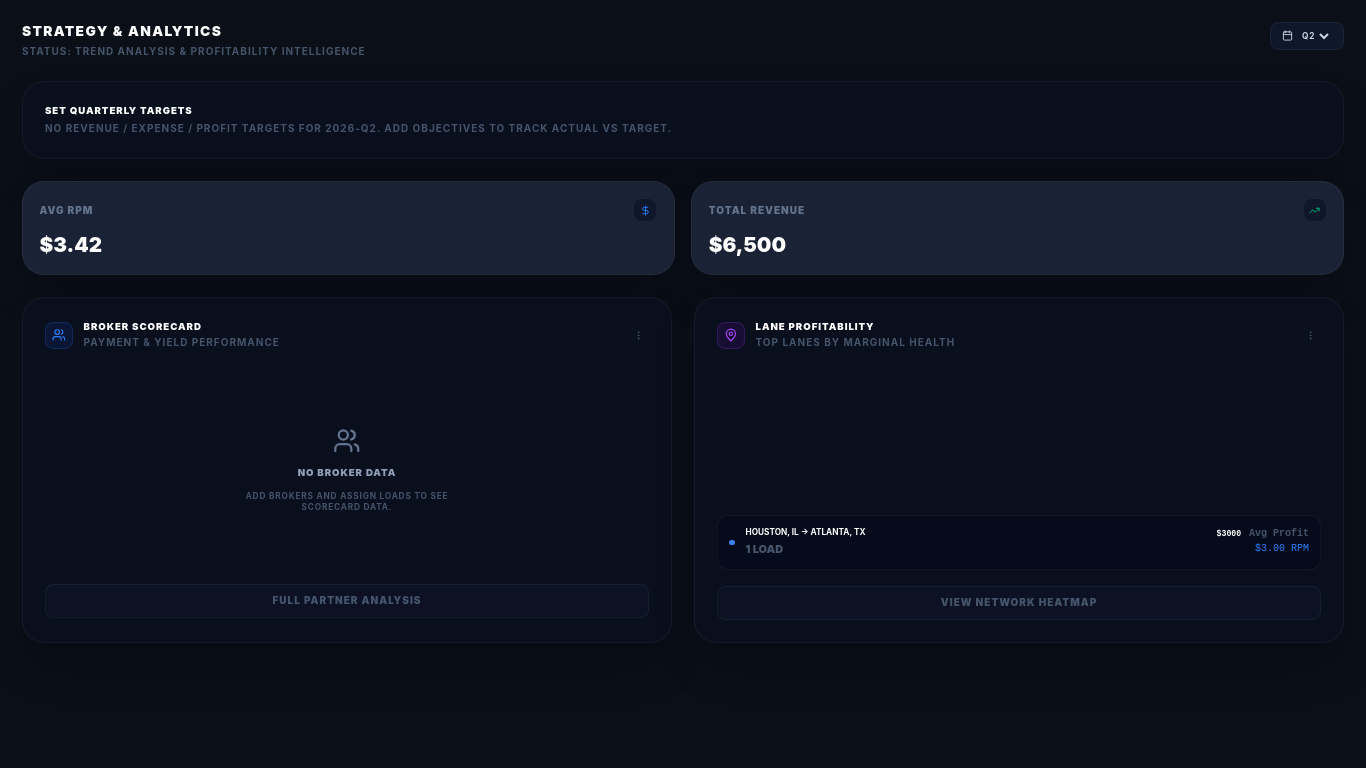
Test: AnalyticsDashboard quarterly enhancement › Tests R-P10-04 — changing quarter filters lane data by pickupDate
Default quarter is Q1 (for this test's determinism, we select it explicitly)
Select "Q1" in the dropdown with test id "quarter-selector". click: (1315, 36)
box: [1298,30,1332,42]
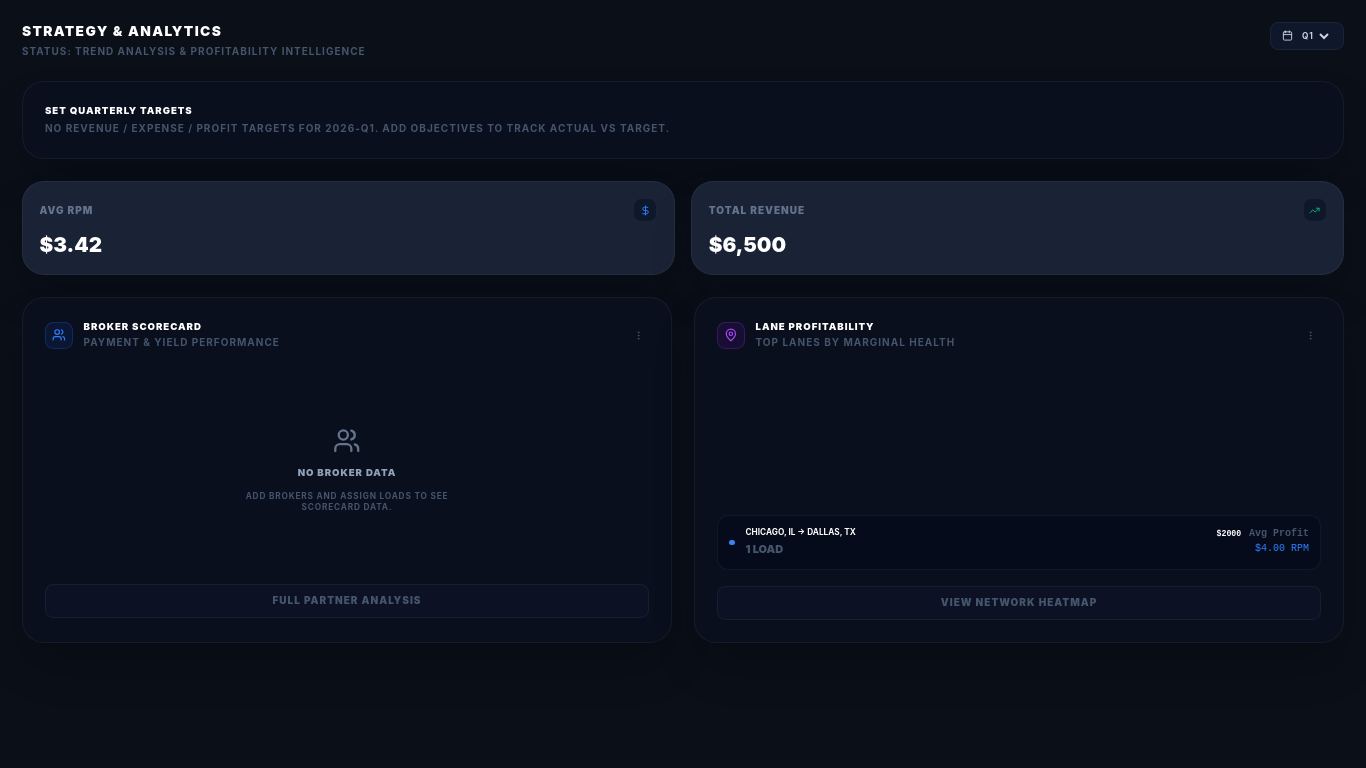
Check: the text "Chicago, IL → Dallas, TX" is shown, box [746,527,856,538]
Check: the text "Houston, IL → Atlanta, TX" is gone
Switch to Q2 — only Houston → Atlanta lane should render
Select "Q2" in the dropdown with test id "quarter-selector". click: (1315, 36)
box: [1298,30,1332,42]
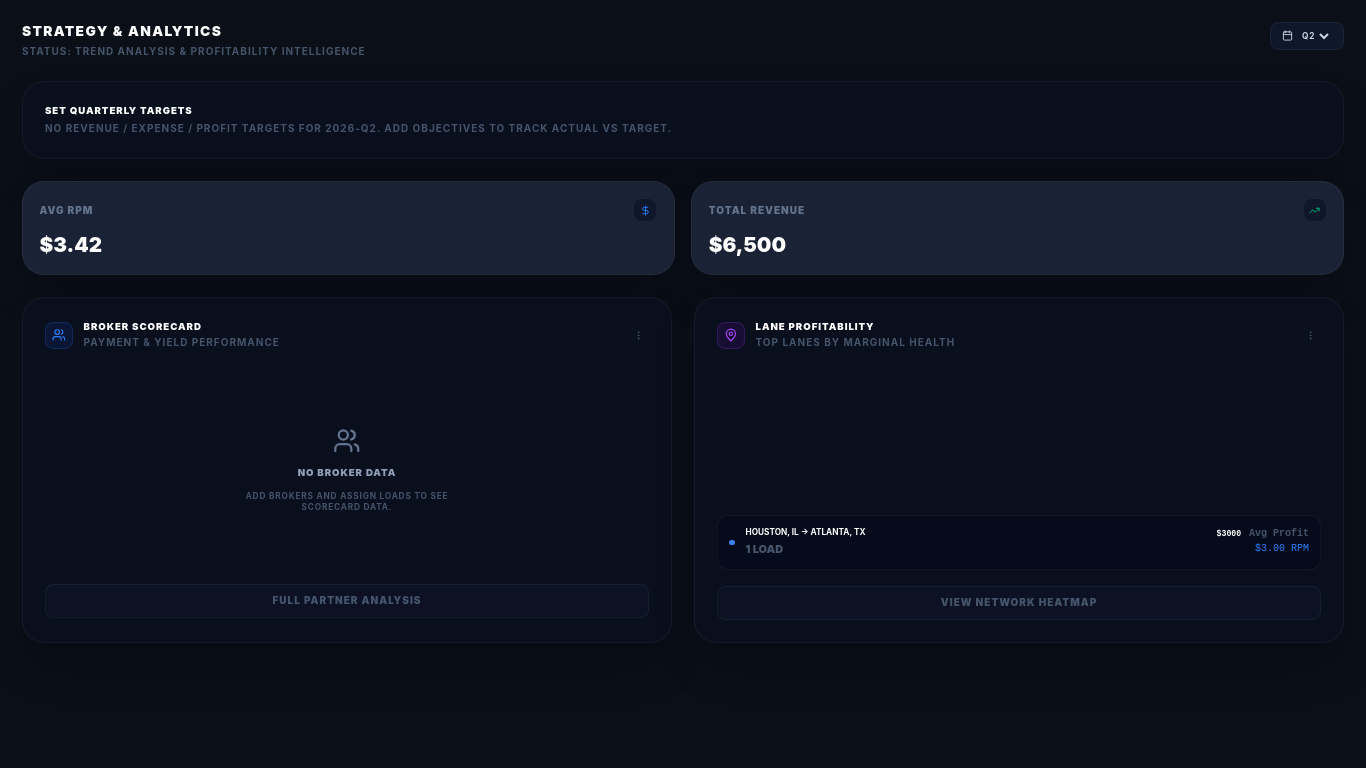
Check: the text "Houston, IL → Atlanta, TX" is shown, box [746,527,866,538]
Check: the text "Chicago, IL → Dallas, TX" is gone
